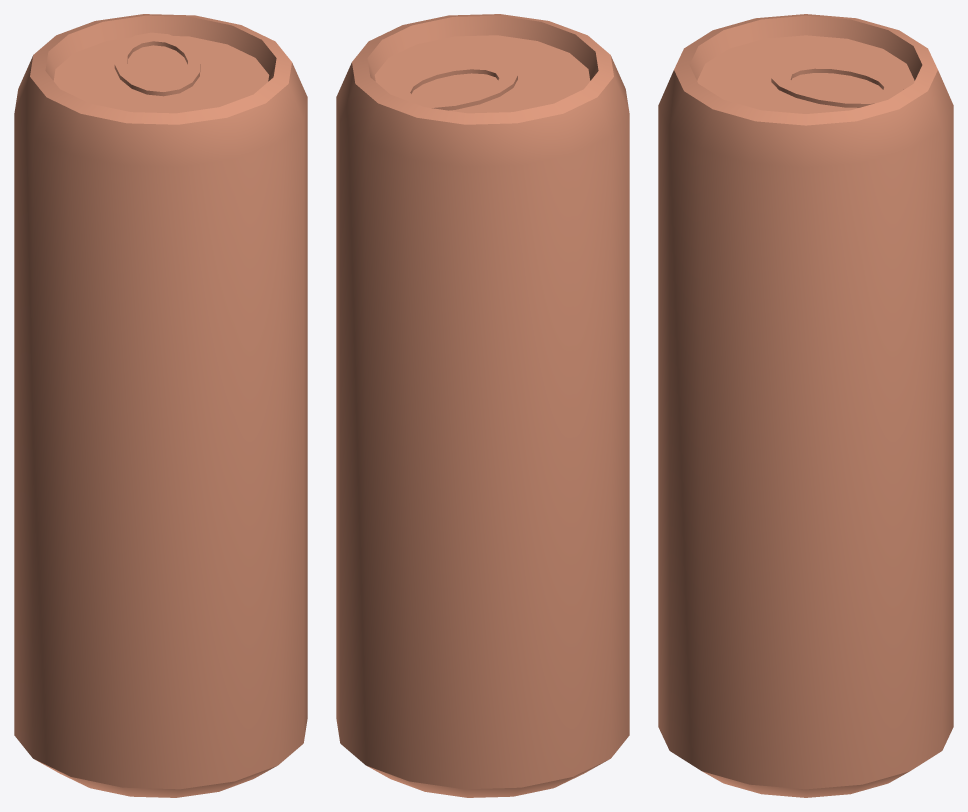
The model's file is monster_can.fbx.
3 renders of one model, left to right at view 1: azimuth 30°, elevation 25°; view 2: azimuth 150°, elevation 25°; view 3: azimuth 270°, elevation 25°, orthographic.
Visible parts, largest first — view 1: monster_can; view 2: monster_can; view 3: monster_can.
Boxes of the visible parts, box(x1,y1,x2,y2) form: monster_can: box(14, 14, 307, 797); monster_can: box(336, 14, 629, 797); monster_can: box(658, 14, 953, 797).
Size of the model in its own units: 10.96 by 28 by 10.96.
